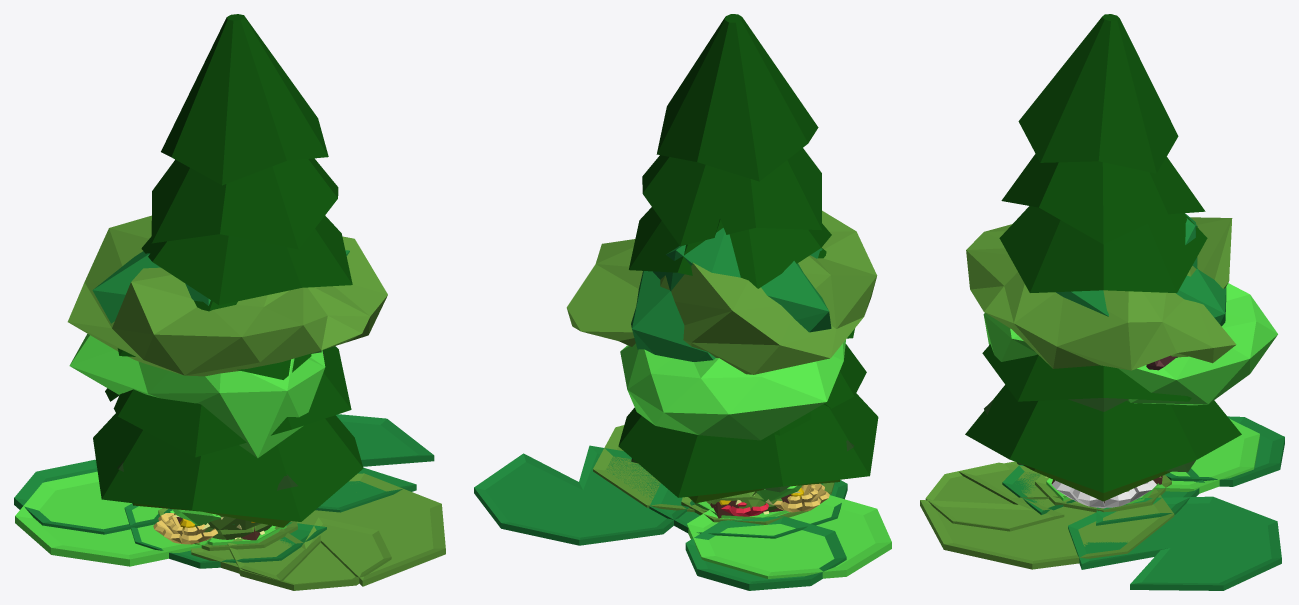
The model's file is Environment.fbx.
3 views of the same model, side by side, from view 1: azimuth 30°, elevation 25°; view 2: azimuth 150°, elevation 25°; view 3: azimuth 270°, elevation 25° (orthographic). The views are drawn at different scales.
Parts seen in each view (by area): view 1: Needles4, Leaves1, Leaves3, Cylinder.013, Cylinder.015, Cylinder.016, Cylinder.014, Cylinder.012, Leaves2, Cylinder.008, Cylinder.009, Cylinder.011 (+1 smaller); view 2: Needles4, Leaves1, Leaves3, Cylinder.016, Cylinder.015, Leaves2, Cylinder.012, Cylinder.013, Cylinder.008, Cylinder.009; view 3: Needles4, Leaves1, Cylinder.016, Cylinder.013, Leaves3, Cylinder.014, Cylinder.015, Leaves2, Cylinder.012, Cylinder.008, Cylinder.017, Cylinder.011 (+2 smaller).
Part boxes in pixels (box(x1,y1,x2,y2)): Needles4: box(93, 14, 363, 521); Leaves1: box(67, 215, 387, 376); Leaves3: box(69, 334, 325, 457); Cylinder.013: box(190, 473, 445, 586); Cylinder.015: box(15, 471, 211, 566); Cylinder.016: box(315, 414, 434, 512); Cylinder.014: box(227, 517, 391, 590); Cylinder.012: box(14, 459, 172, 534); Leaves2: box(92, 250, 349, 323); Cylinder.008: box(124, 503, 326, 568); Cylinder.009: box(153, 513, 217, 544); Cylinder.011: box(158, 508, 297, 550); Needles4: box(618, 14, 878, 497); Leaves1: box(566, 210, 877, 374); Leaves3: box(620, 340, 845, 440); Cylinder.016: box(474, 445, 694, 545); Cylinder.015: box(687, 495, 891, 578); Leaves2: box(631, 228, 831, 361); Cylinder.012: box(685, 516, 846, 590); Cylinder.013: box(593, 425, 834, 512); Cylinder.008: box(649, 480, 847, 538); Cylinder.009: box(773, 483, 829, 512); Needles4: box(965, 14, 1241, 492); Leaves1: box(966, 217, 1236, 370); Cylinder.016: box(1068, 496, 1281, 590); Cylinder.013: box(920, 461, 1174, 569); Leaves3: box(983, 283, 1277, 405); Cylinder.014: box(925, 462, 1066, 531); Cylinder.015: box(1154, 419, 1259, 493); Leaves2: box(1056, 213, 1226, 357); Cylinder.012: box(1165, 416, 1284, 486); Cylinder.008: box(1002, 465, 1204, 525); Cylinder.017: box(1052, 480, 1156, 508); Cylinder.011: box(1035, 475, 1171, 512).
Size of the model in its own units: 740 by 940 by 640.
